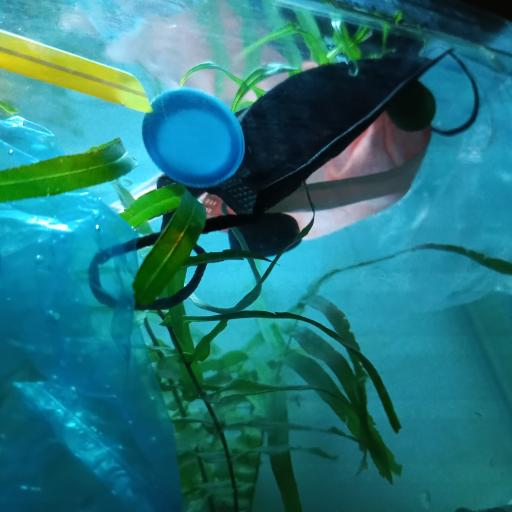bottle_cap: (141, 87, 244, 189), (228, 215, 301, 253), (386, 83, 434, 131)
mask: (91, 44, 482, 307), (194, 81, 433, 241)
plastic_bag: (0, 114, 194, 512), (350, 62, 512, 312)
plastic_straw: (279, 0, 512, 64), (0, 32, 153, 116)
